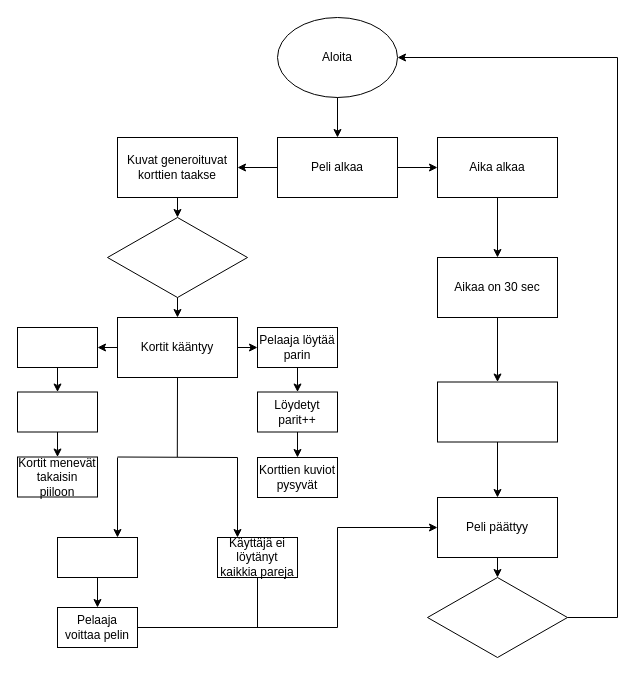
Image size: 643x675. Some labels were removed from this diagram. The shapes that lost their labels are listed below. From the top down, each one's centre as x and y in pixels, then its label:
At [177,257]: "Käyttäjä painaa kortteja".
At [57,347]: "Pelaaja ei löydä paria".
At [57,411]: "Käännetyt kortit ++".
At [497,411]: "Aika loppuu".
At [97,557]: "Pelaaja löysi kaikki parit".
At [497,617]: "Aloita alusta".
